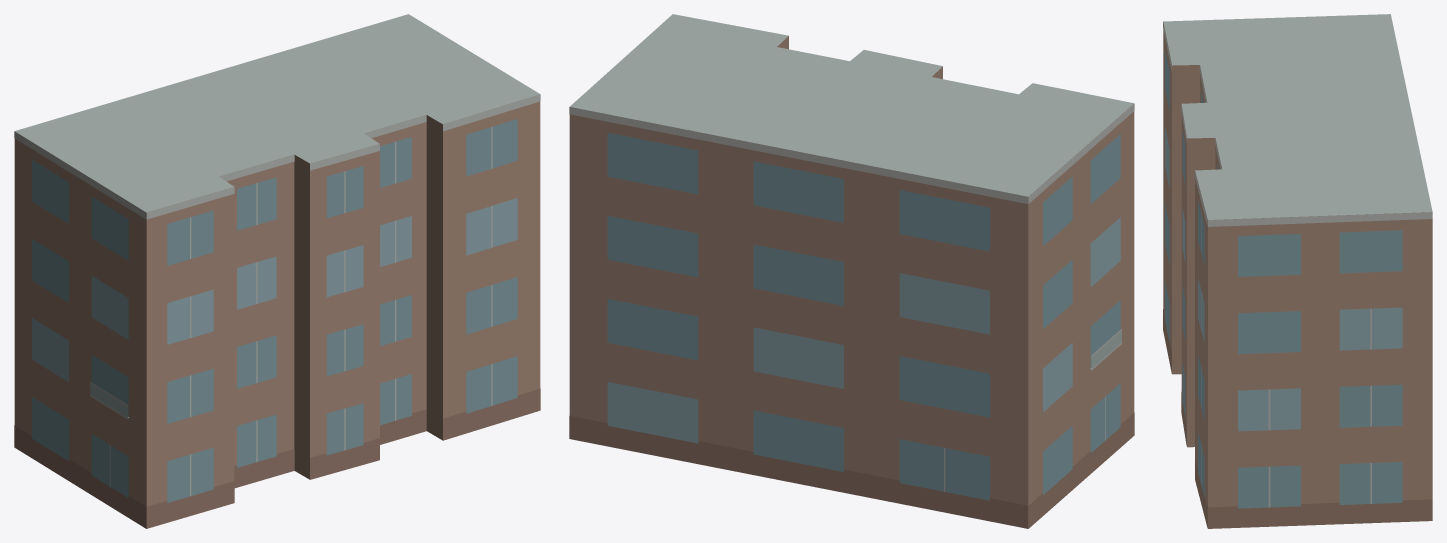
Rendered from survey-upis-32928915.glb.
3 renders of one model, left to right at view 1: azimuth 30°, elevation 25°; view 2: azimuth 150°, elevation 25°; view 3: azimuth 270°, elevation 25°, orthographic. The views are drawn at different scales.
Visible parts, largest first — view 1: survey-upis-32928915.tmp; view 2: survey-upis-32928915.tmp; view 3: survey-upis-32928915.tmp.
Boxes of the visible parts, x1=… form: survey-upis-32928915.tmp: x1=14, y1=14, x2=540, y2=528; survey-upis-32928915.tmp: x1=569, y1=14, x2=1134, y2=528; survey-upis-32928915.tmp: x1=1163, y1=14, x2=1432, y2=528.
Size of the model in its own units: 15.6 by 10.9 by 8.63.
